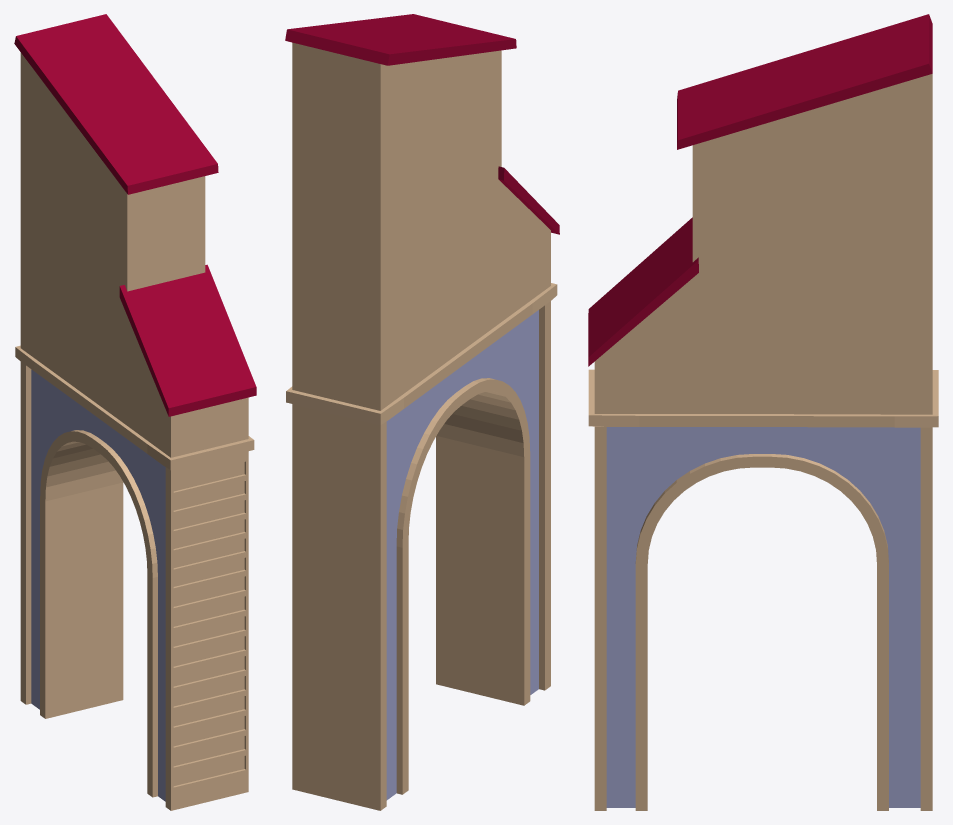
Rendered from TunnelArch.fbx.
3 views of the same model, side by side, from view 1: azimuth 30°, elevation 25°; view 2: azimuth 150°, elevation 25°; view 3: azimuth 270°, elevation 25° (orthographic). The views are drawn at different scales.
Parts seen in each view (by area): view 1: Cube.018; view 2: Cube.018; view 3: Cube.018.
Part boxes in pixels (x1,y1,x2,y2): Cube.018: [14, 14, 256, 810]; Cube.018: [285, 14, 559, 810]; Cube.018: [588, 14, 938, 810].
Size of the model in its own units: 444 by 3131 by 1324.
